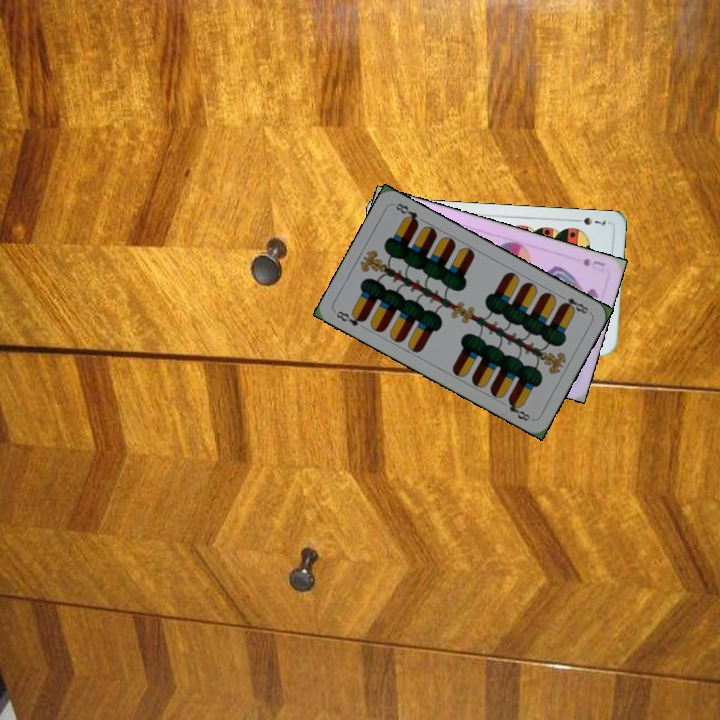E8: (555, 291, 591, 316), (332, 306, 369, 329)
S7: (570, 213, 608, 228)
SU: (579, 254, 608, 272)
